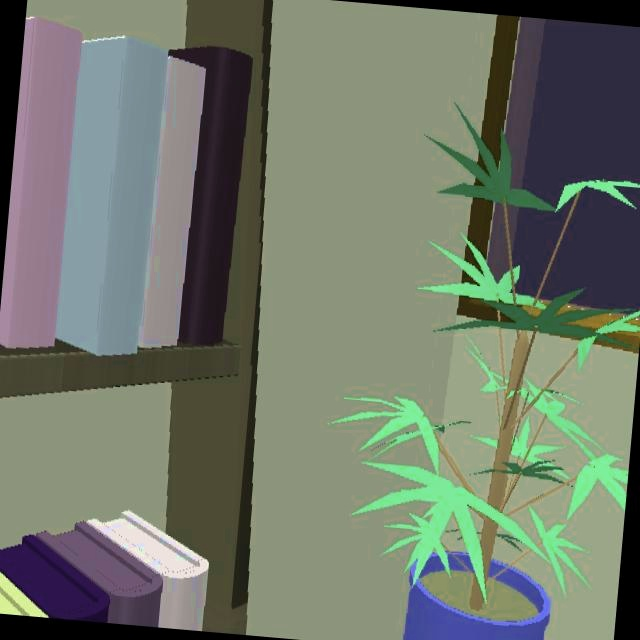book: (55, 36, 167, 355), (0, 17, 82, 348), (168, 47, 252, 344), (139, 57, 205, 346), (192, 116, 199, 121)
shelf: (0, 0, 273, 632)
